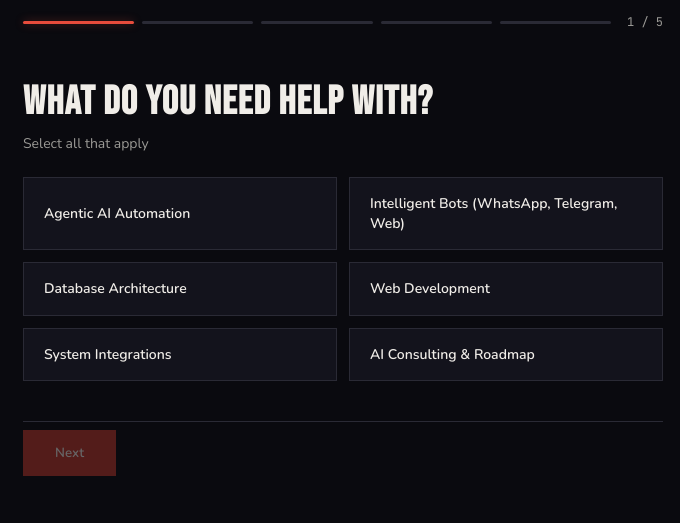
Test case: Intake form › Back button returns to previous step with state preserved
This screenshot has width=680, height=523.
Click the button "Agentic AI Automation" at (180, 214), box [23,177,337,250]
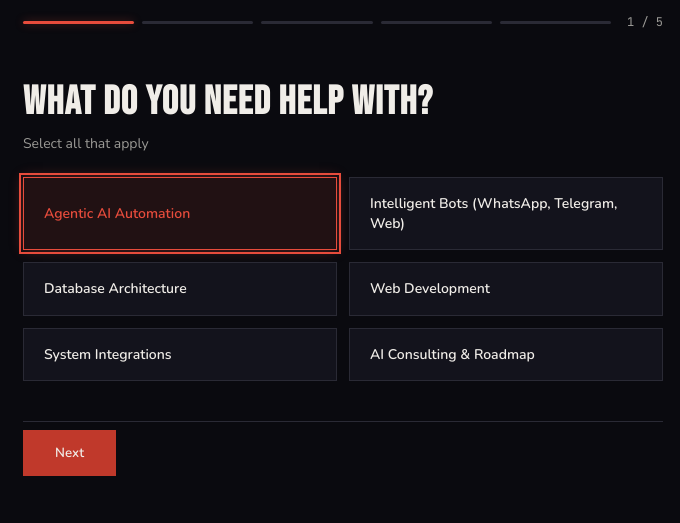
Click the button "Next" at (70, 453), box [23,430,116,476]
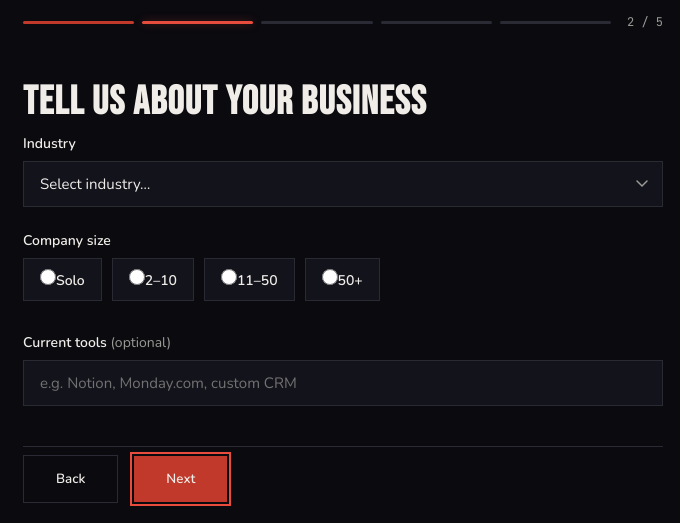
Click the button "Back" at (71, 479), box [23,455,118,503]
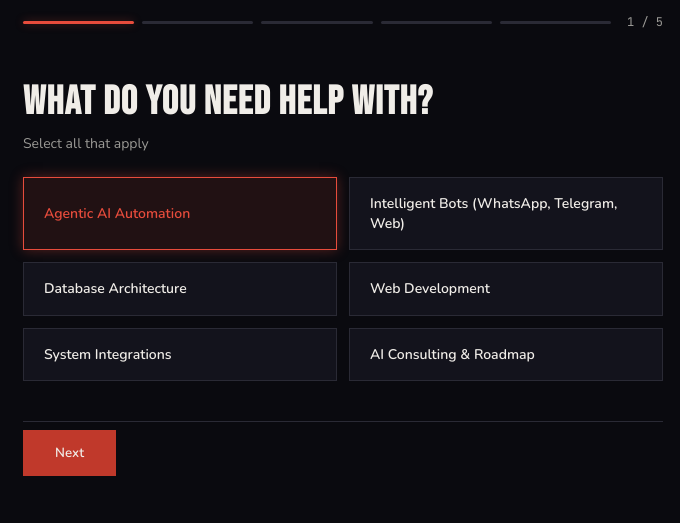
Result: the button "Agentic AI Automation" is shown at [23,177,337,250]
